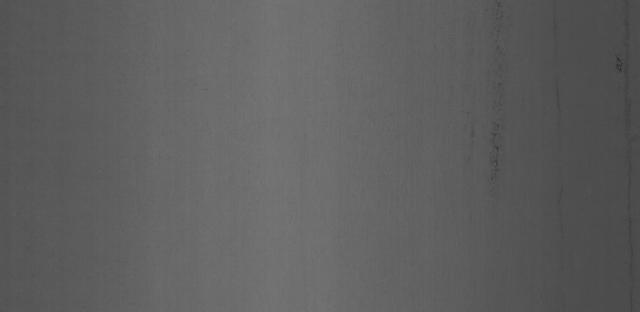inclusion: (482, 4, 515, 192), (610, 50, 630, 79)
